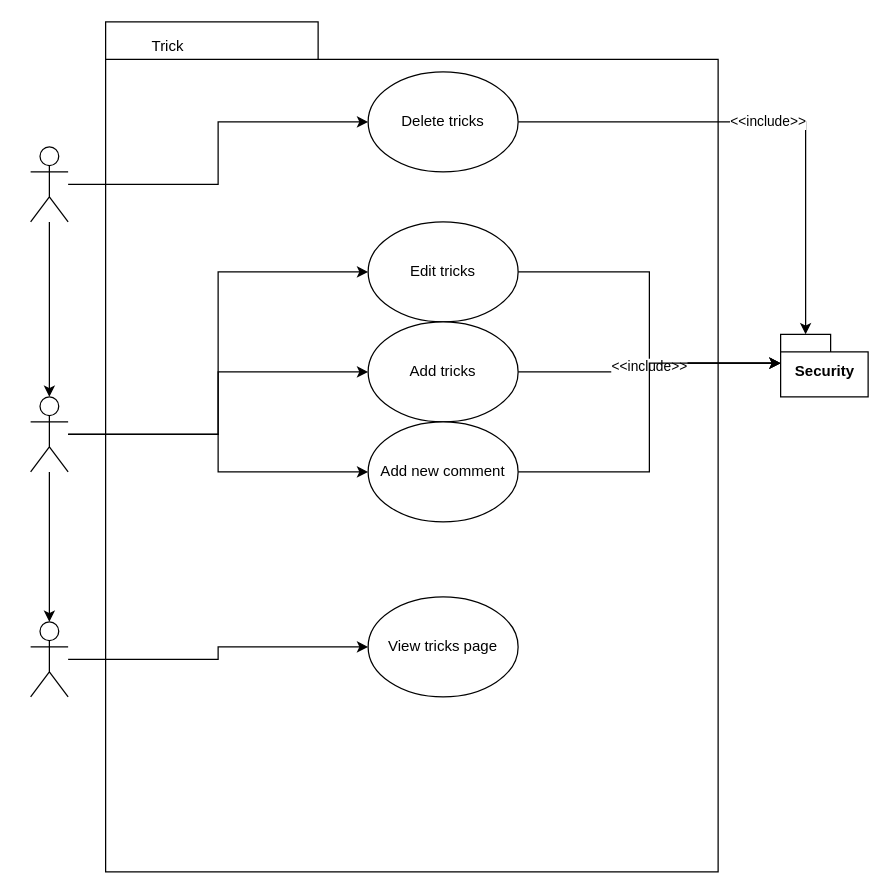
This 890x894 diagram has some shape labels left out. The shapes that lost their labels are listed below. From the top down, each one's centre as x and y in pixels, then its label:
At (x=48, y=184): "Editor".
At (x=48, y=434): "Membre".
At (x=48, y=659): "Guest".
